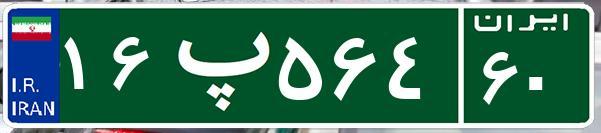0: (525, 38, 570, 115)
1: (57, 26, 110, 107)
4: (385, 28, 445, 110)
5: (273, 28, 330, 110)
6: (330, 28, 385, 110), (475, 38, 525, 113), (110, 28, 158, 105)
پ: (158, 15, 273, 115)
